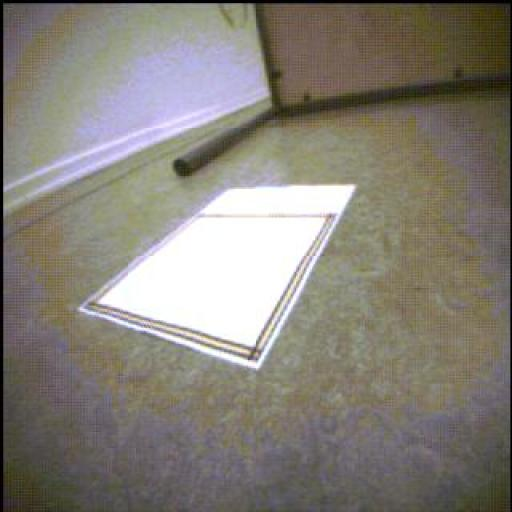Pad: (81, 187, 356, 371)
